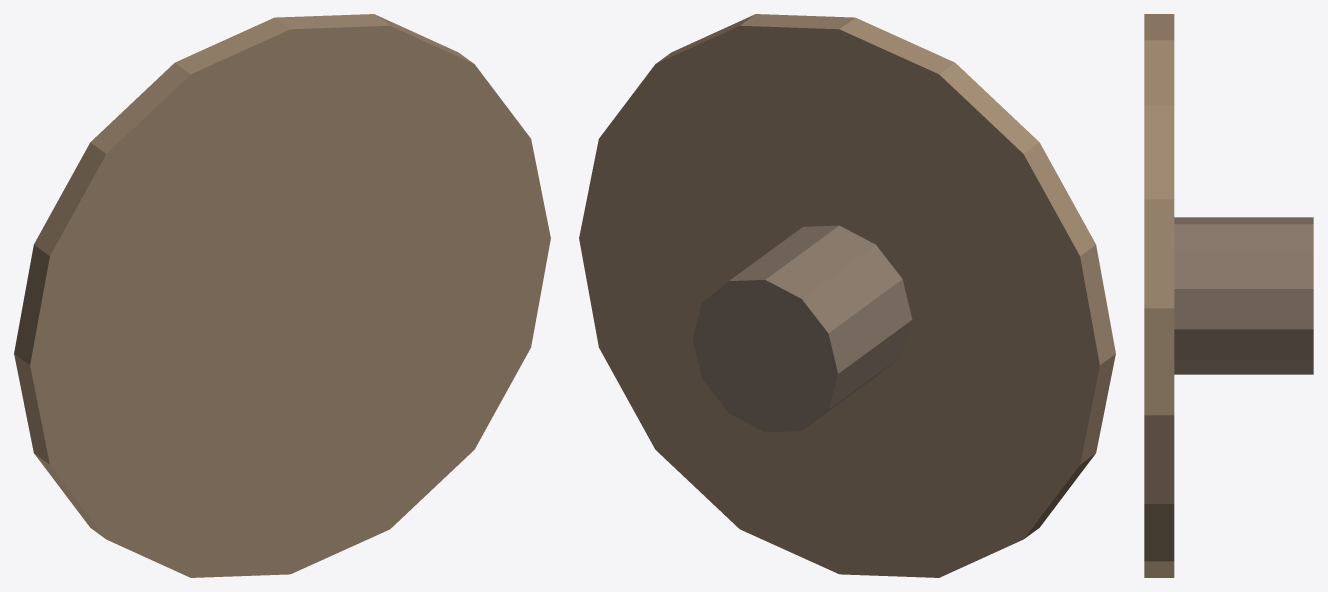
The model's file is cooperative-table-eco.glb.
3 renders of one model, left to right at view 1: azimuth 30°, elevation 25°; view 2: azimuth 150°, elevation 25°; view 3: azimuth 270°, elevation 25°, orthographic. The views are drawn at different scales.
Visible parts, largest first — view 1: table-top; view 2: table-top, table-base; view 3: table-base, table-top.
Part boxes in pixels (x1=…): table-top: x1=14, y1=14, x2=550, y2=577; table-top: x1=579, y1=14, x2=1115, y2=577; table-base: x1=692, y1=225, x2=912, y2=432; table-base: x1=1174, y1=217, x2=1313, y2=374; table-top: x1=1144, y1=14, x2=1174, y2=577.
Size of the model in its own units: 3 by 3 by 0.9.
